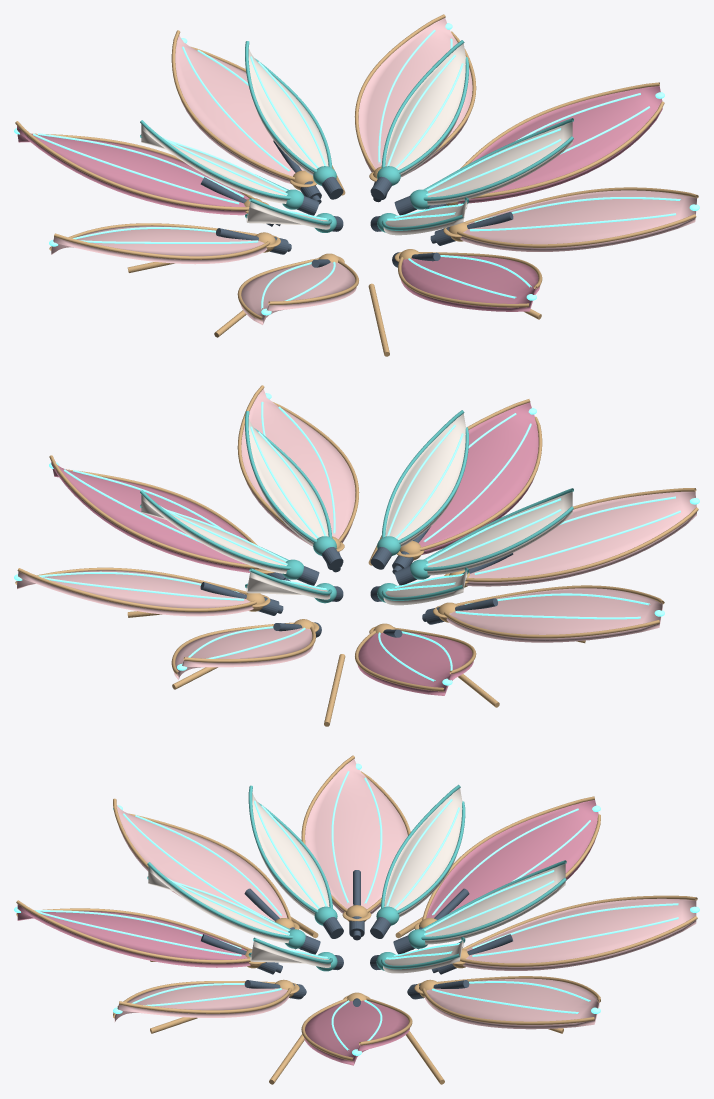
Rendered from parametric_petals_8.glb.
3 renders of one model, top to bottom at view 1: azimuth 30°, elevation 25°; view 2: azimuth 150°, elevation 25°; view 3: azimuth 270°, elevation 25°, orthographic. The views are drawn at different scales.
Parts seen in each view (by area): view 1: DISPLAY_06_07_•_Opal_pink, DISPLAY_04_06_•_Rosy_ceramic, DISPLAY_00_02_•_Pearl_ivory, DISPLAY_05_03_•_Champagne_bronze, DISPLAY_02_11_•_Ion_emission_blue, DISPLAY_01_08_•_Jade_enamel, DISPLAY_03_04_•_Graphite_titanium; view 2: DISPLAY_06_07_•_Opal_pink, DISPLAY_04_06_•_Rosy_ceramic, DISPLAY_00_02_•_Pearl_ivory, DISPLAY_05_03_•_Champagne_bronze, DISPLAY_02_11_•_Ion_emission_blue, DISPLAY_01_08_•_Jade_enamel, DISPLAY_03_04_•_Graphite_titanium; view 3: DISPLAY_06_07_•_Opal_pink, DISPLAY_04_06_•_Rosy_ceramic, DISPLAY_00_02_•_Pearl_ivory, DISPLAY_05_03_•_Champagne_bronze, DISPLAY_02_11_•_Ion_emission_blue, DISPLAY_01_08_•_Jade_enamel, DISPLAY_03_04_•_Graphite_titanium.
Part boxes in pixels (bbox=[...]): DISPLAY_06_07_•_Opal_pink: bbox=[51, 18, 696, 324]; DISPLAY_04_06_•_Rosy_ceramic: bbox=[17, 85, 662, 311]; DISPLAY_00_02_•_Pearl_ivory: bbox=[141, 43, 572, 235]; DISPLAY_05_03_•_Champagne_bronze: bbox=[15, 14, 698, 356]; DISPLAY_02_11_•_Ion_emission_blue: bbox=[14, 23, 699, 315]; DISPLAY_01_08_•_Jade_enamel: bbox=[140, 40, 573, 232]; DISPLAY_03_04_•_Graphite_titanium: bbox=[200, 140, 513, 267]; DISPLAY_06_07_•_Opal_pink: bbox=[17, 389, 696, 679]; DISPLAY_04_06_•_Rosy_ceramic: bbox=[51, 402, 538, 695]; DISPLAY_00_02_•_Pearl_ivory: bbox=[141, 413, 572, 605]; DISPLAY_05_03_•_Champagne_bronze: bbox=[15, 385, 698, 726]; DISPLAY_02_11_•_Ion_emission_blue: bbox=[14, 393, 699, 685]; DISPLAY_01_08_•_Jade_enamel: bbox=[140, 410, 573, 603]; DISPLAY_03_04_•_Graphite_titanium: bbox=[200, 526, 513, 637]; DISPLAY_06_07_•_Opal_pink: bbox=[114, 759, 696, 1029]; DISPLAY_04_06_•_Rosy_ceramic: bbox=[17, 800, 598, 1065]; DISPLAY_00_02_•_Pearl_ivory: bbox=[148, 788, 565, 973]; DISPLAY_05_03_•_Champagne_bronze: bbox=[16, 755, 697, 1084]; DISPLAY_02_11_•_Ion_emission_blue: bbox=[14, 763, 699, 1055]; DISPLAY_01_08_•_Jade_enamel: bbox=[147, 784, 566, 971]; DISPLAY_03_04_•_Graphite_titanium: bbox=[201, 870, 512, 1006].
Bounding box in the file's own units: 9.54 × 2.09 × 9.54.
